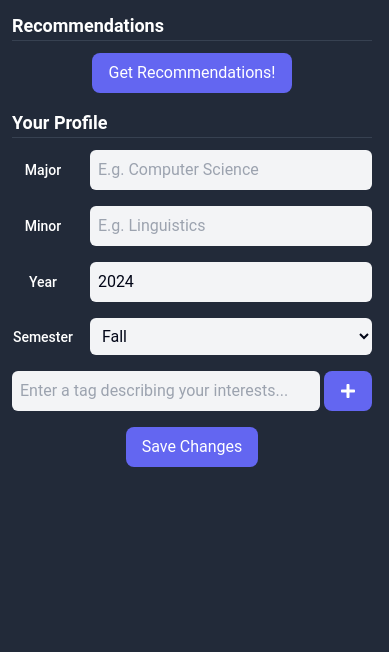
Test: Home › fetches recommendations and displays them
This screenshot has width=389, height=652.
Click the button "Get Recommendations!".
click(192, 73)  # box [92, 53, 292, 93]
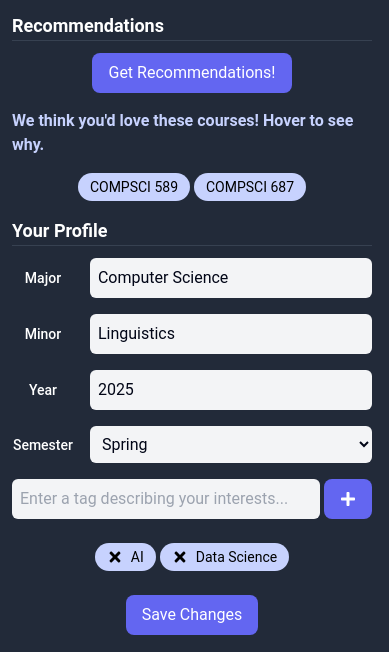
expect the text "COMPSCI 687" is shown: met, box [206, 177, 294, 197]
